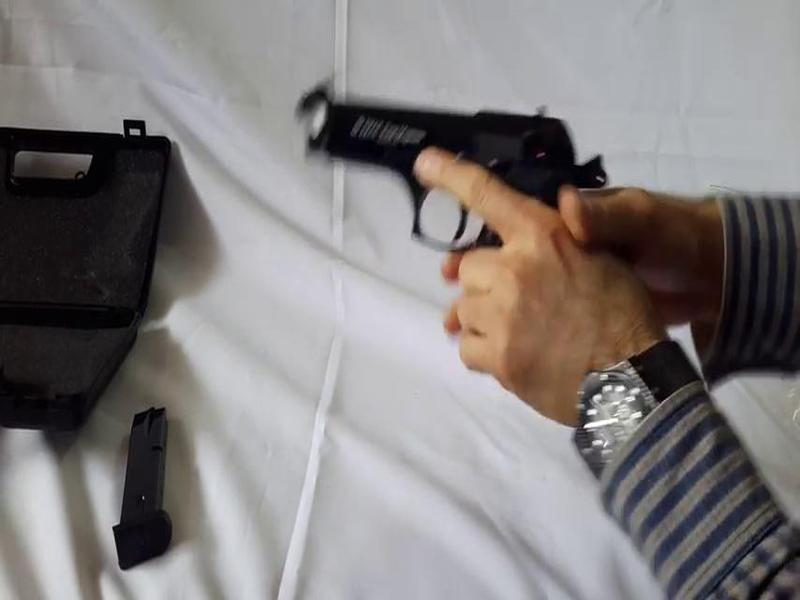Pistola: (274, 57, 621, 292)
